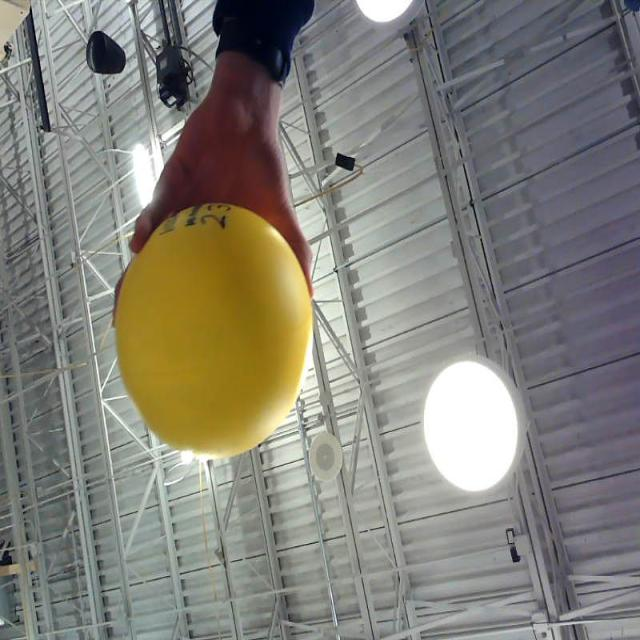Fuel: (115, 202, 312, 459)
